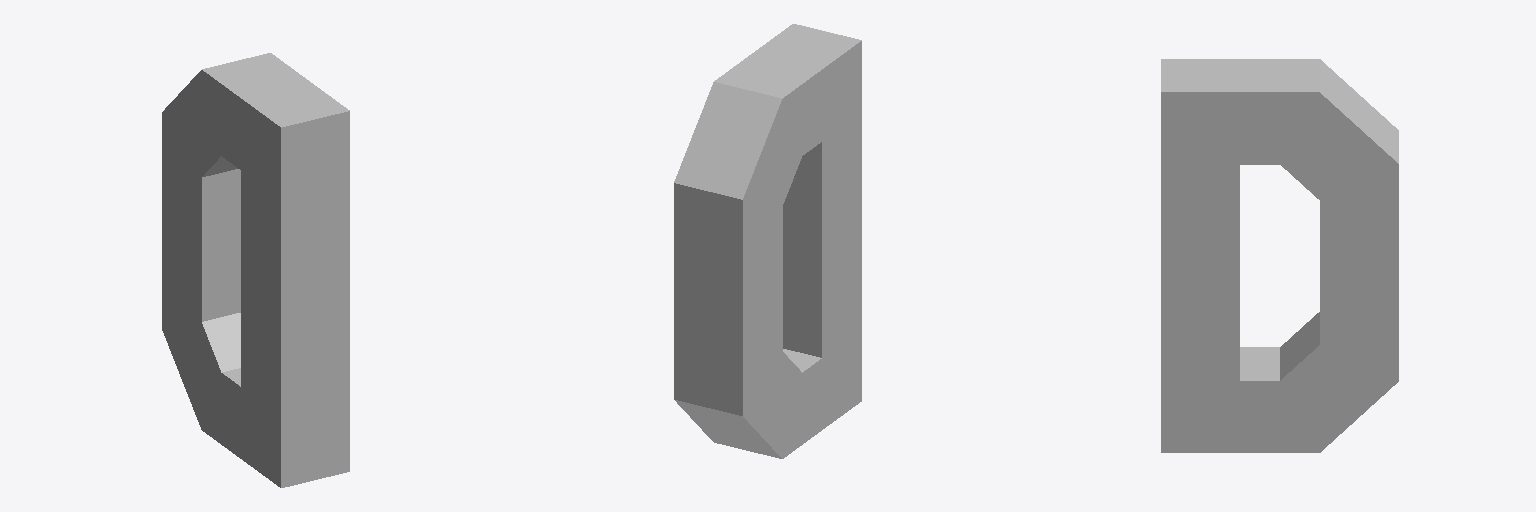
Rendered from character_d.obj.
3 renders of one model, left to right at view 1: azimuth 30°, elevation 25°; view 2: azimuth 150°, elevation 25°; view 3: azimuth 270°, elevation 25°, orthographic.
Visible parts, largest first — view 1: Cube.001; view 2: Cube.001; view 3: Cube.001.
Boxes of the visible parts, x1,y1,x2,y2 form: Cube.001: [162, 53, 349, 487]; Cube.001: [674, 24, 861, 458]; Cube.001: [1161, 59, 1398, 452].
Bounding box in the file's own units: 6 × 30 × 18.